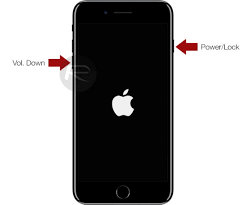iphone: (71, 1, 173, 205)
iphone7: (71, 1, 173, 204)
